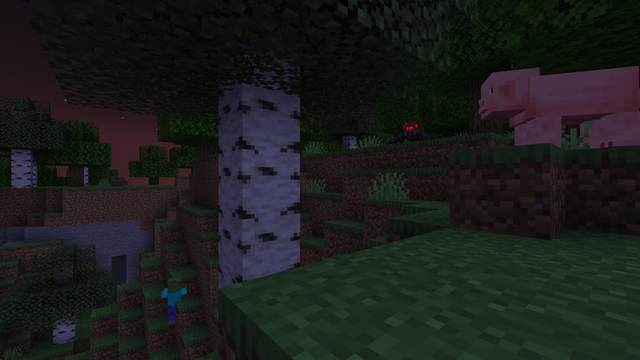araignees: (388, 117, 438, 142)
cochons: (512, 55, 619, 152)
zombies: (165, 277, 182, 327)
